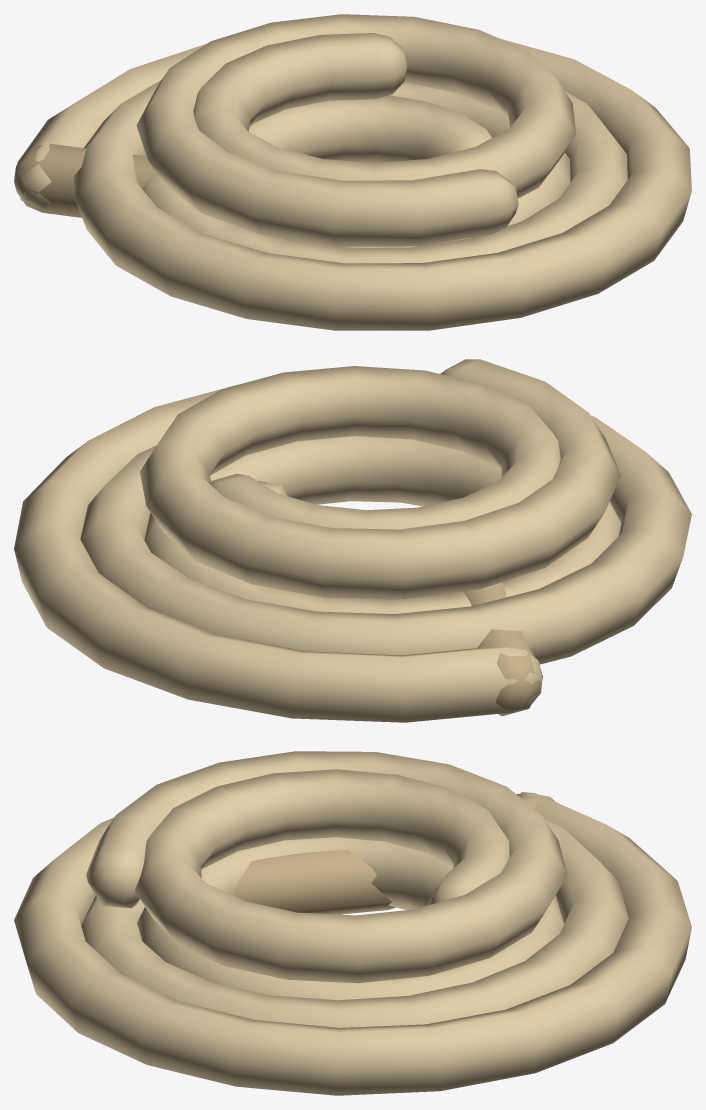
Rendered from rope_coil.glb.
3 views of the same model, one above another, from view 1: azimuth 30°, elevation 25°; view 2: azimuth 150°, elevation 25°; view 3: azimuth 270°, elevation 25° (orthographic). The views are drawn at different scales.
Parts seen in each view (by area): view 1: rope_coil; view 2: rope_coil; view 3: rope_coil.
Part boxes in pixels (x1,y1,x2,y2): rope_coil: [14, 14, 691, 330]; rope_coil: [14, 359, 691, 722]; rope_coil: [14, 751, 691, 1095].
Size of the model in its own units: 0.5331 by 0.1156 by 0.5573.
